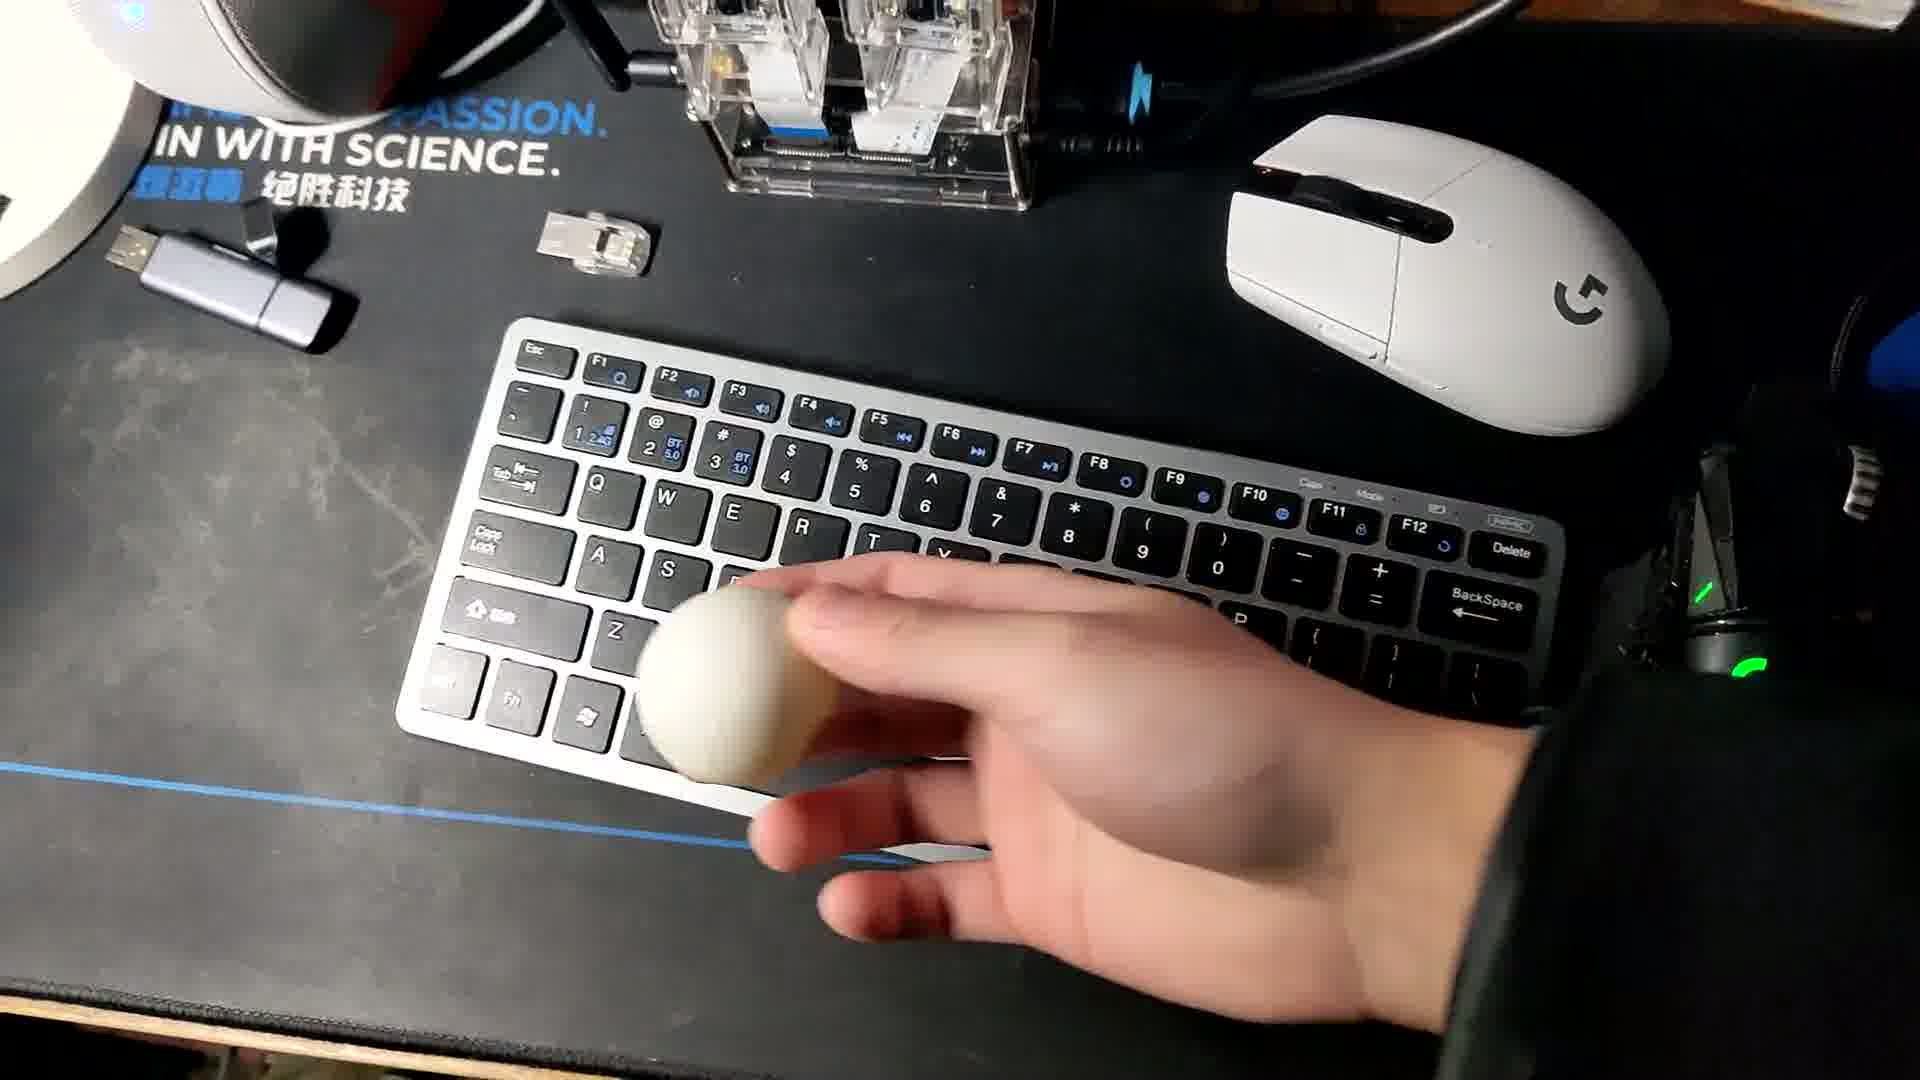Ball: (650, 582, 858, 789)
